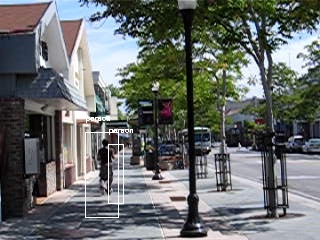person: (97, 139, 116, 196), (96, 139, 115, 196), (98, 139, 117, 196), (97, 138, 116, 195), (97, 140, 116, 197)
target_negative: (27, 8, 74, 208), (250, 17, 306, 178), (235, 45, 289, 113), (226, 69, 266, 112), (230, 164, 254, 229), (167, 224, 248, 234)
